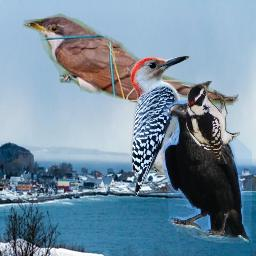Crow: (162, 100, 252, 243)
Cuckoo: (22, 11, 241, 117)
Woodpecker: (123, 49, 219, 209), (186, 81, 240, 164)
